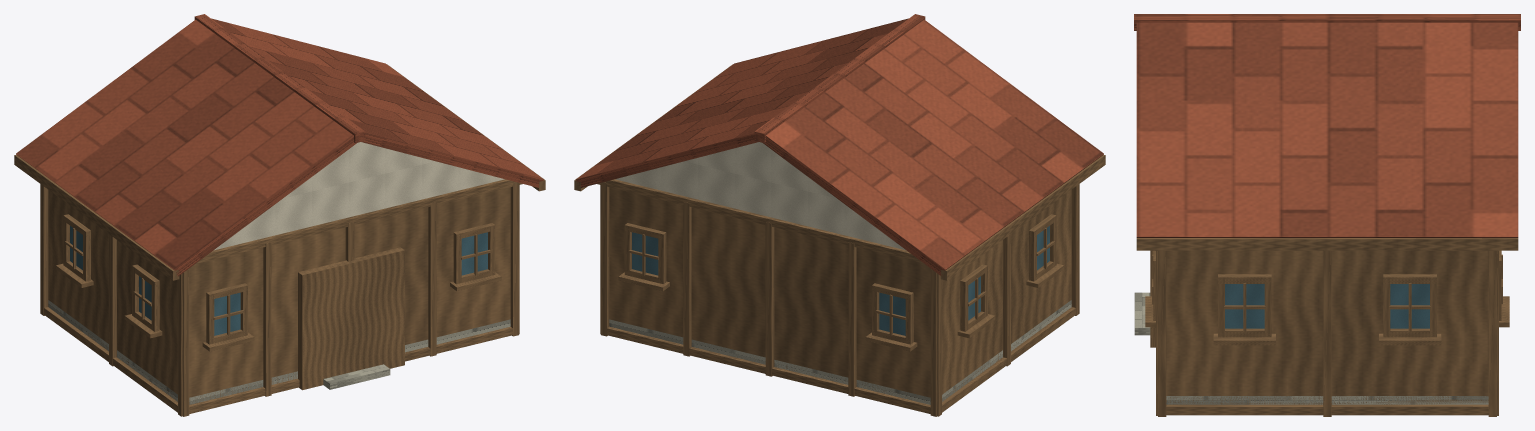
The picture shows the model from 3 angles, left to right: view 1: azimuth 30°, elevation 25°; view 2: azimuth 150°, elevation 25°; view 3: azimuth 270°, elevation 25°; orthographic projection. The views are drawn at different scales.
Parts seen in each view (by area): view 1: house-wood, house-roof, house-plaster, house-stone, house-glass; view 2: house-wood, house-roof, house-plaster, house-stone, house-glass; view 3: house-roof, house-wood, house-stone, house-glass.
Part boxes in pixels (left/top/right/bottom): house-wood: left=14, top=64, right=545, bottom=416; house-roof: left=16, top=14, right=543, bottom=276; house-plaster: left=214, top=142, right=504, bottom=250; house-stone: left=48, top=300, right=510, bottom=404; house-glass: left=70, top=226, right=487, bottom=335; house-wood: left=574, top=64, right=1105, bottom=416; house-roof: left=576, top=14, right=1103, bottom=275; house-plaster: left=615, top=142, right=905, bottom=250; house-stone: left=609, top=300, right=1071, bottom=404; house-glass: left=632, top=226, right=1049, bottom=335; house-roof: left=1134, top=14, right=1520, bottom=237; house-wood: left=1136, top=238, right=1518, bottom=416; house-stone: left=1134, top=292, right=1488, bottom=404; house-glass: left=1225, top=284, right=1429, bottom=328.
Bounding box in the file's own units: 10.18 × 6.52 × 7.6.
5 materials, 5 textured.
